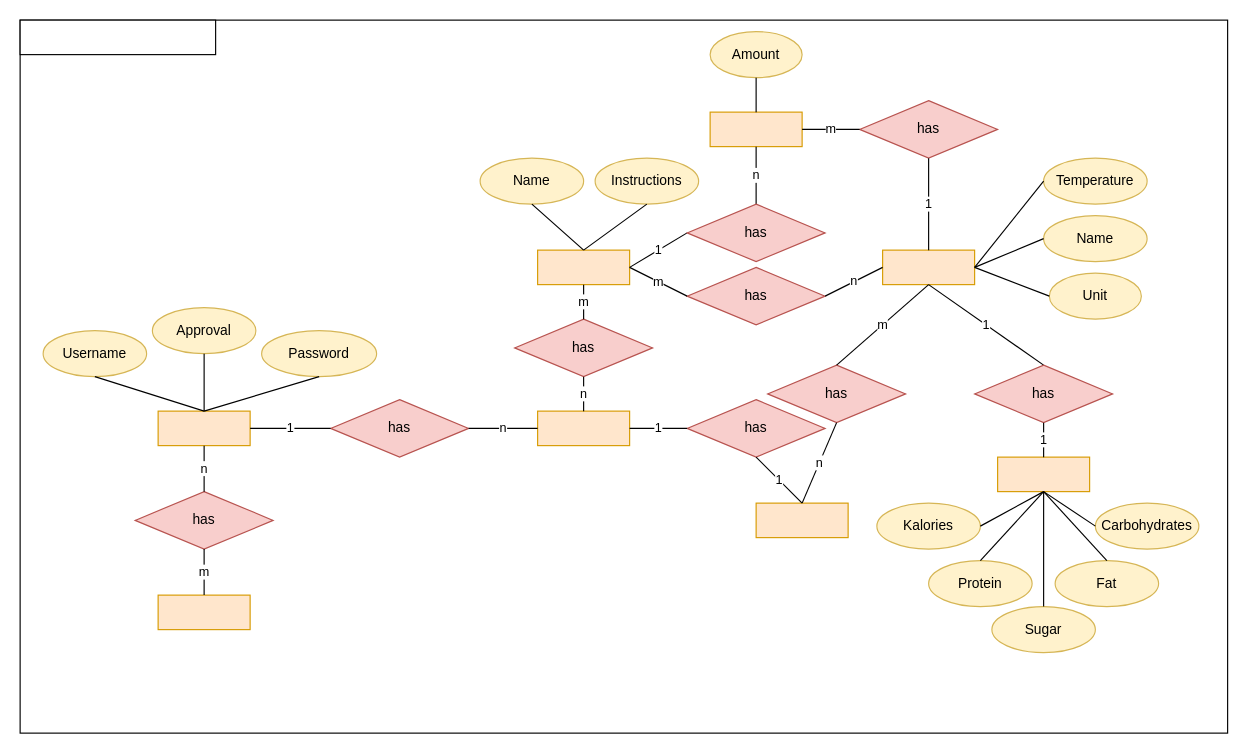
This 1248x753 diagram has some shape labels left out. The centre of each missing label's shape, as x and y in pixels:
ER Diagram: the point at 117,37
Ingredient: the point at 928,267
List: the point at 801,520
Nutrition: the point at 1043,474
Plan: the point at 583,428
Quantity: the point at 755,129
Recipe: the point at 583,267
Role: the point at 203,612
User: the point at 203,428
